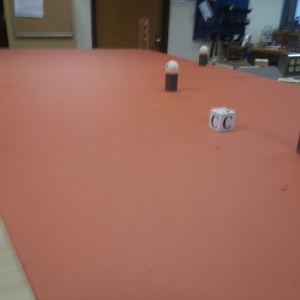obstacle: (165, 61, 177, 89), (199, 46, 209, 67)
